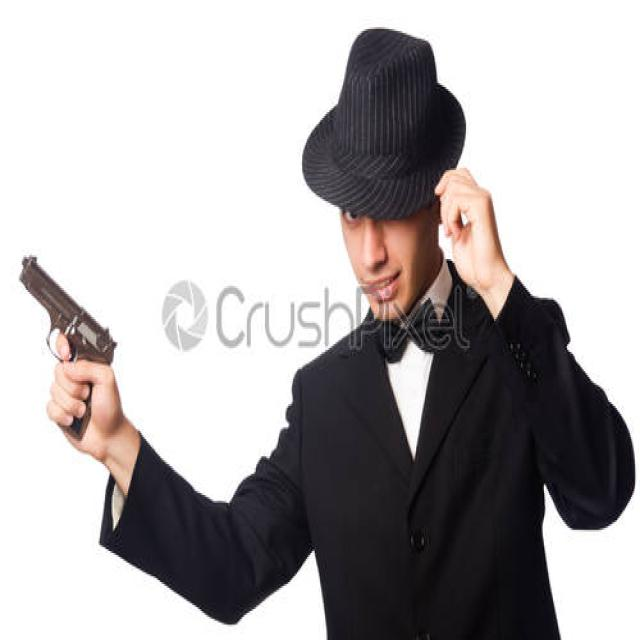HandGun: (19, 255, 118, 364)
